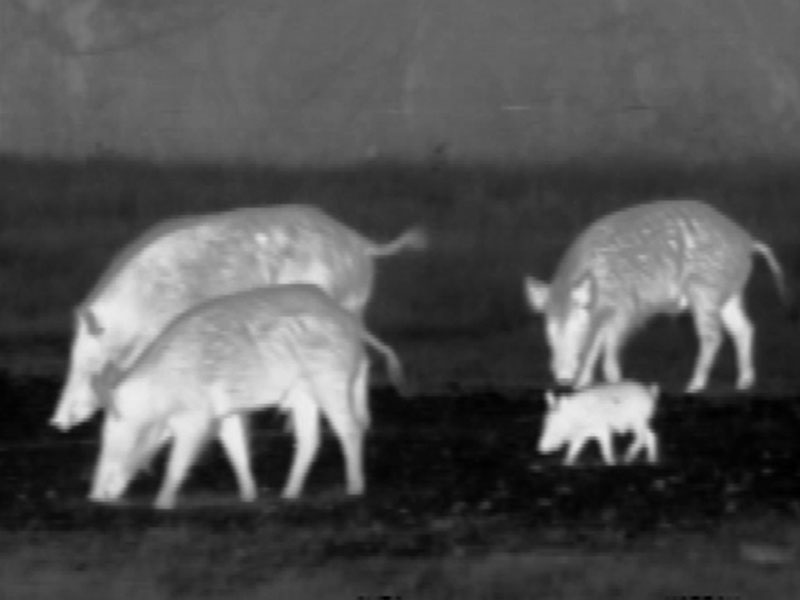cinghiale: (39, 179, 388, 433), (89, 280, 408, 511), (520, 185, 783, 395), (531, 373, 666, 468)
